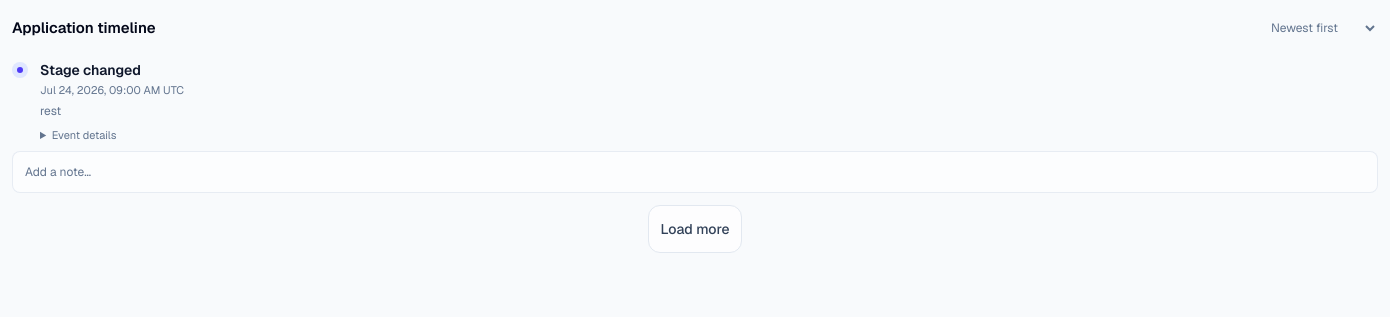
Scenario: ApplicationTimeline › loads more pages and switches deterministic order
Check: the heading "Stage changed" is shown, box [40,61,141,79]
Click the button "Load more" at [695, 229], box [648,205,742,253]
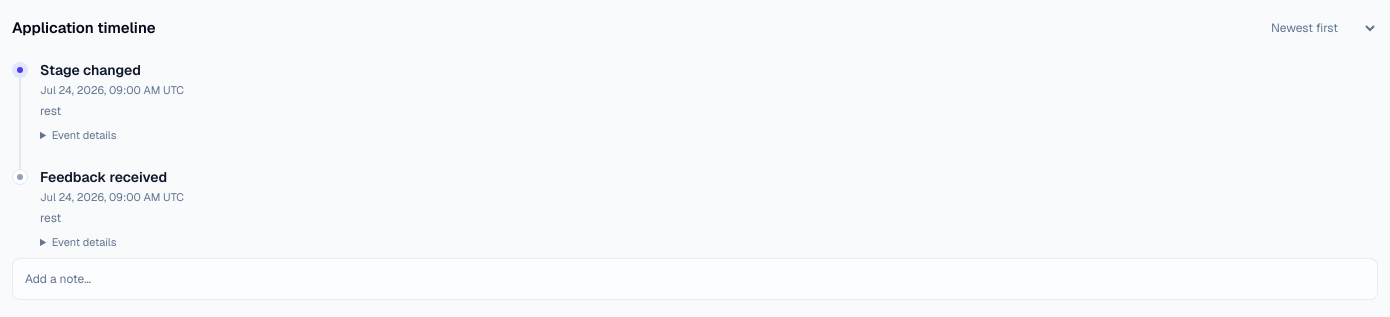
Check: the heading "Feedback received" is shown, box [40,168,167,186]
Select "Oldest first" in the dropdown named "Timeline order" at [1322, 28], box [1267,12,1378,44]
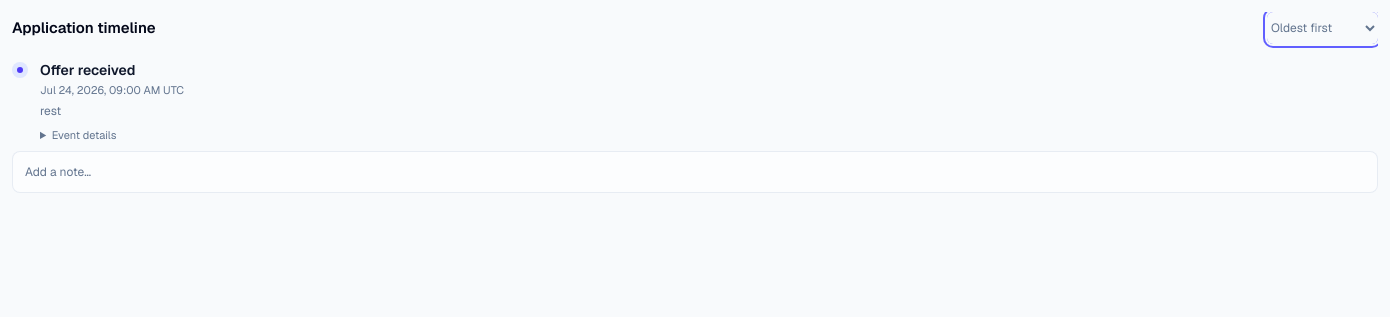
Check: the heading "Offer received" is shown, box [40,61,135,79]
